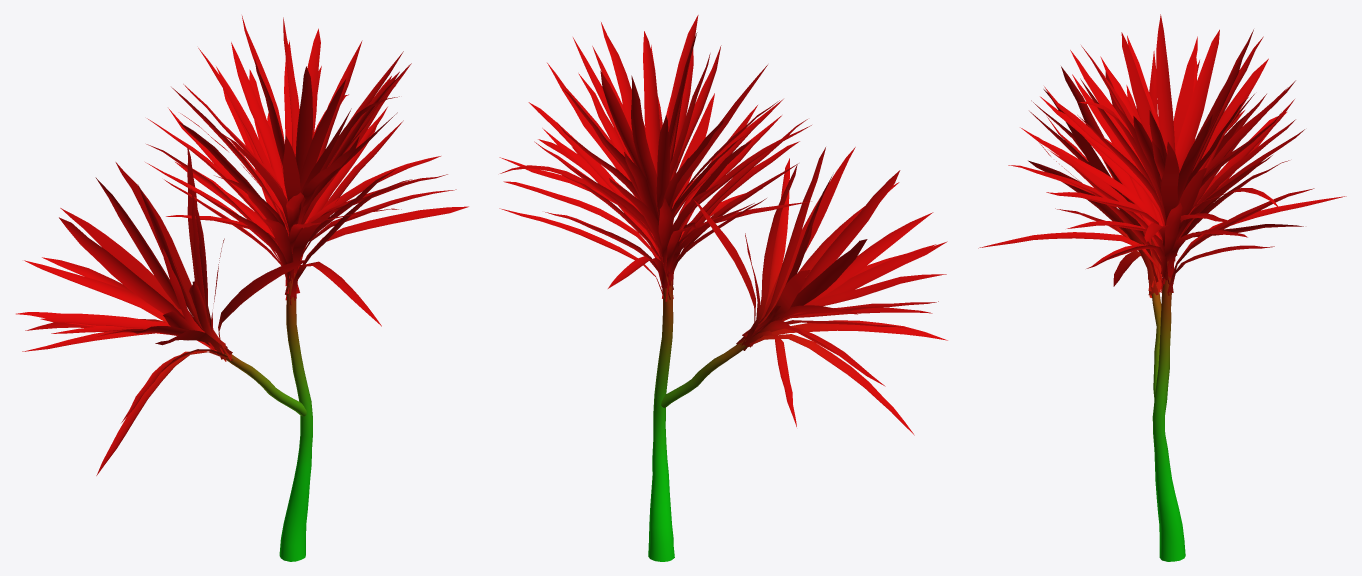
The model's file is SM_Palm03_LOD1.fbx.
3 views of the same model, side by side, from view 1: azimuth 30°, elevation 25°; view 2: azimuth 150°, elevation 25°; view 3: azimuth 270°, elevation 25° (orthographic).
Visible parts, largest first — view 1: _1a5f_Var3_LOD3; view 2: _1a5f_Var3_LOD3; view 3: _1a5f_Var3_LOD3.
Part boxes in pixels (box(x1,y1,x2,y2)): _1a5f_Var3_LOD3: box(16, 16, 468, 561); _1a5f_Var3_LOD3: box(499, 15, 947, 561); _1a5f_Var3_LOD3: box(978, 14, 1346, 561).
Size of the model in its own units: 131 by 160 by 102.
